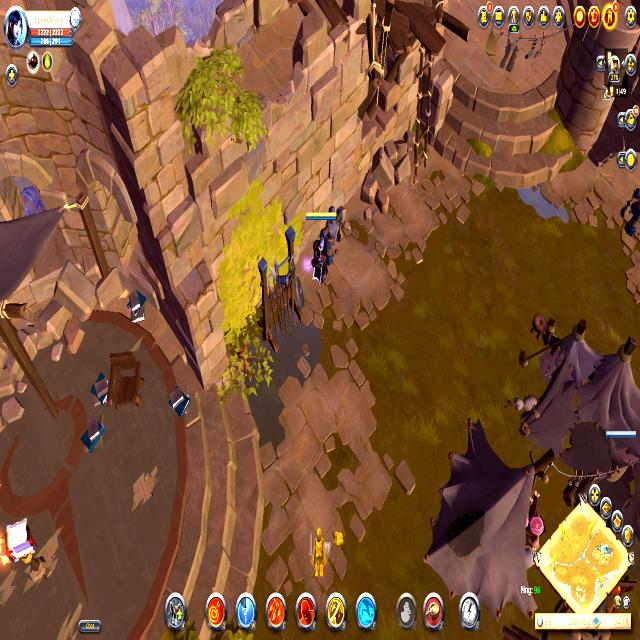red: (302, 206, 340, 288)
